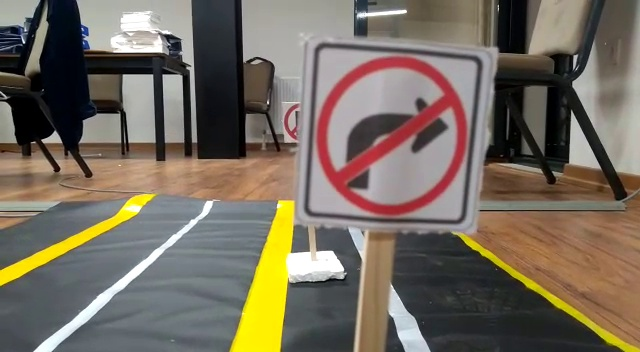saga_donulmez: (312, 43, 466, 224)
